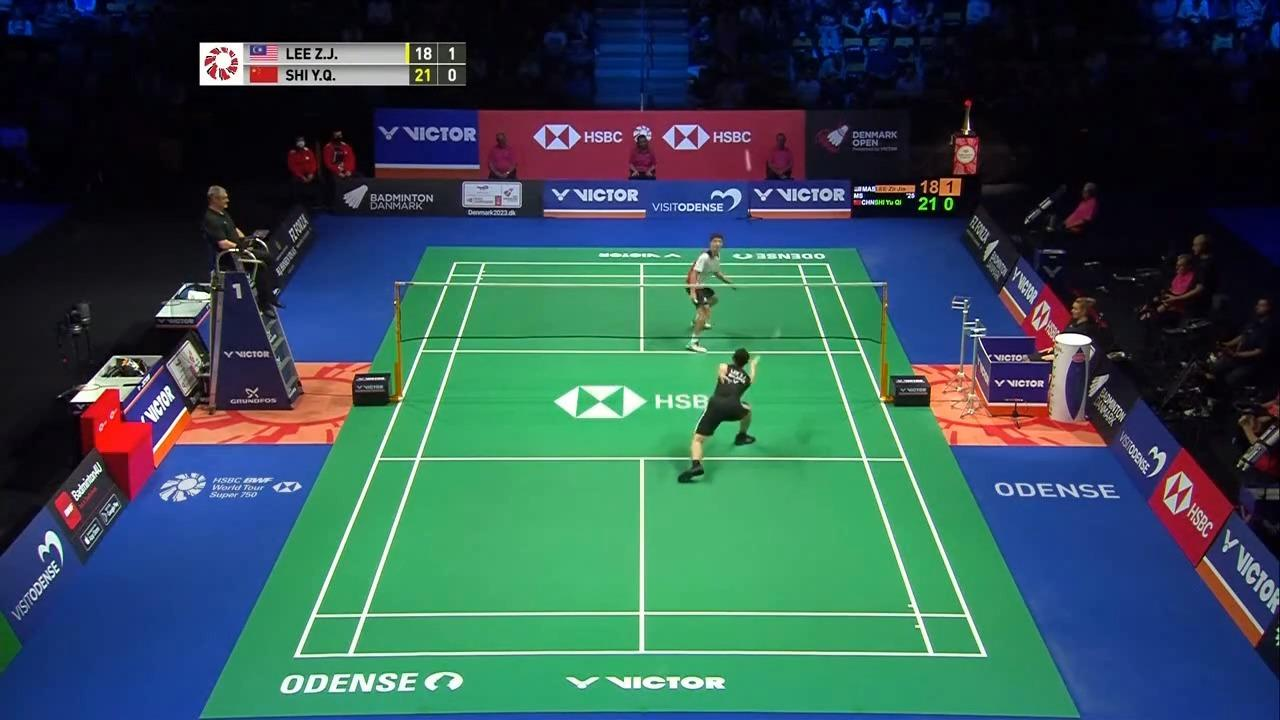shuttle: (745, 152, 753, 170)
